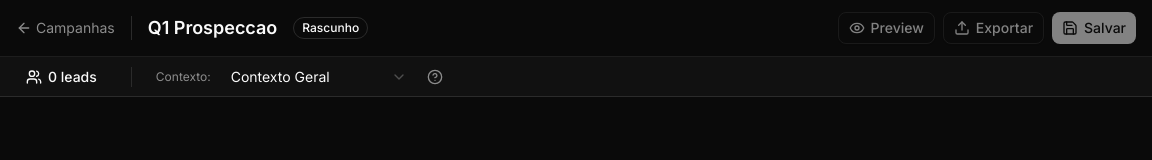
BuilderHeader (AC: #4) › Editable Name (AC: #4) › shows input when campaign name is clicked
What coordinates should you click on to do the following:
click the button with test id "campaign-name"
I would click on:
 (212, 28)
Its box is [148,14,277,42].
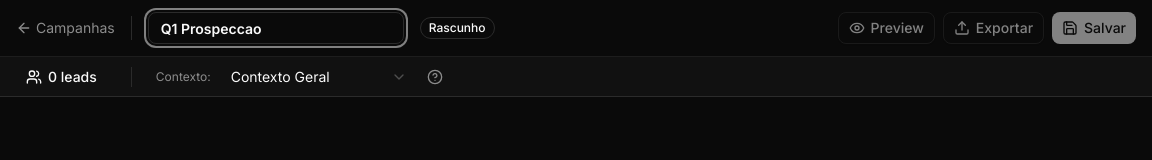
Check: the field with test id "campaign-name-input" is shown, box [148,12,404,44]
